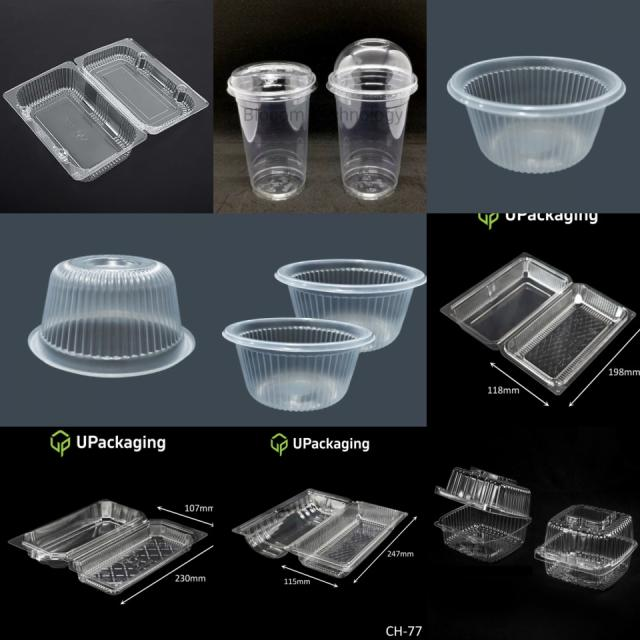Single-Use-Plastic: (4, 39, 209, 182), (440, 252, 635, 395), (442, 51, 631, 173), (28, 255, 195, 378), (9, 500, 206, 595), (232, 489, 408, 578), (326, 39, 418, 199), (222, 318, 374, 411), (275, 259, 426, 352), (228, 62, 316, 201), (435, 468, 531, 562), (535, 505, 638, 589)
